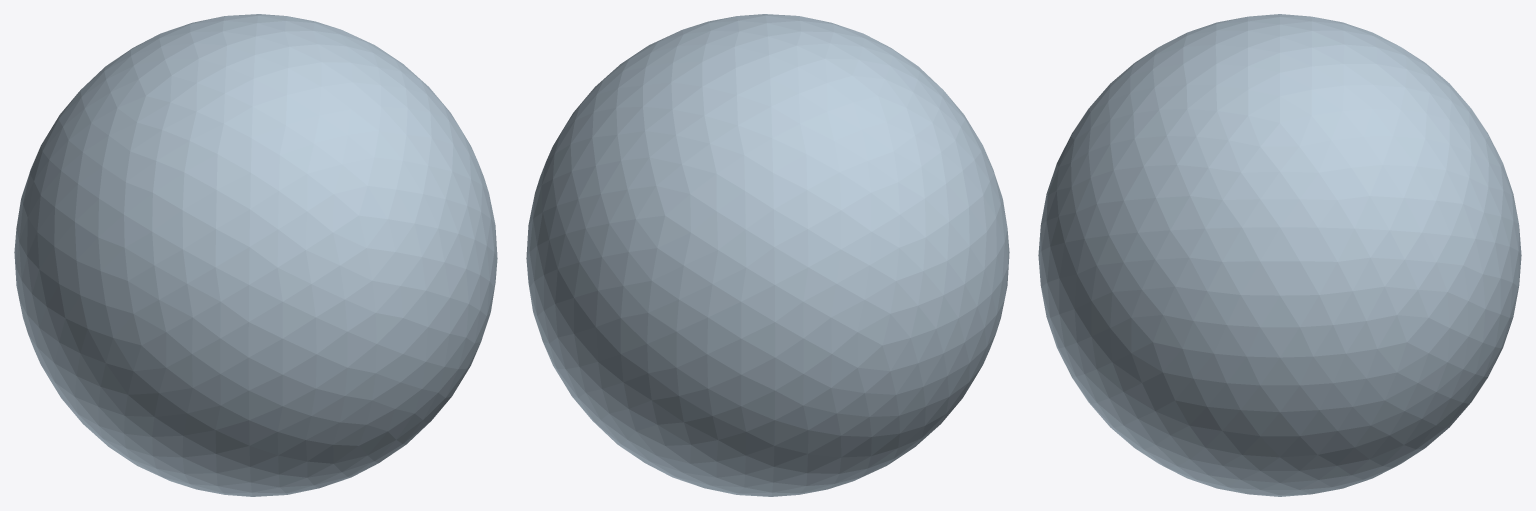
Rendered from ether_eye_dual_show.glb.
3 renders of one model, left to right at view 1: azimuth 30°, elevation 25°; view 2: azimuth 150°, elevation 25°; view 3: azimuth 270°, elevation 25°, orthographic.
Visible parts, largest first — view 1: world; view 2: world; view 3: world.
Part boxes in pixels (<box>): world: <box>14,14,497,496</box>; world: <box>526,14,1009,496</box>; world: <box>1038,14,1521,496</box>.
Bounding box in the file's own units: 3.8 × 3.8 × 3.8.
